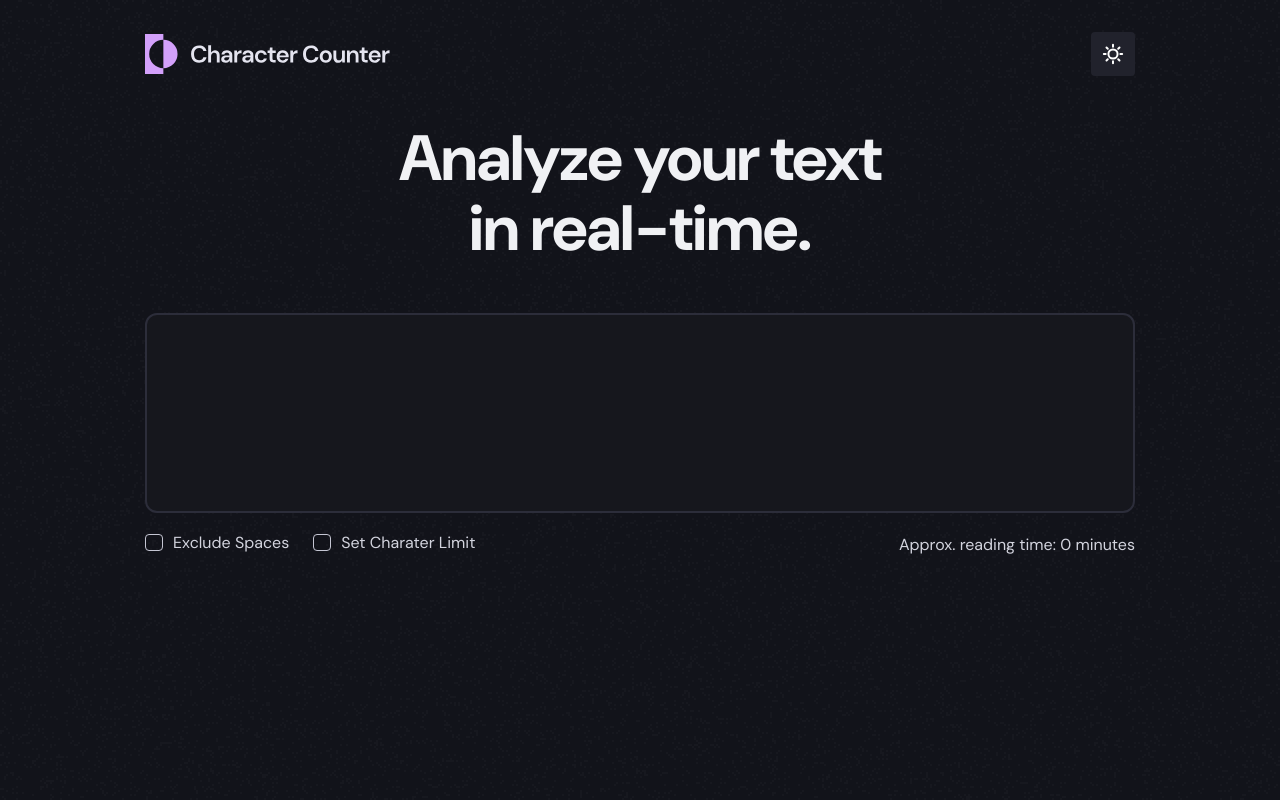
Test: Theme toggle › should switch to light theme and show moon icon on the button when the theme toggle is clicked
The width and height of the screenshot is (1280, 800).
Click the button with test id "theme-toggle" at (1113, 54), box [1091,32,1135,76]
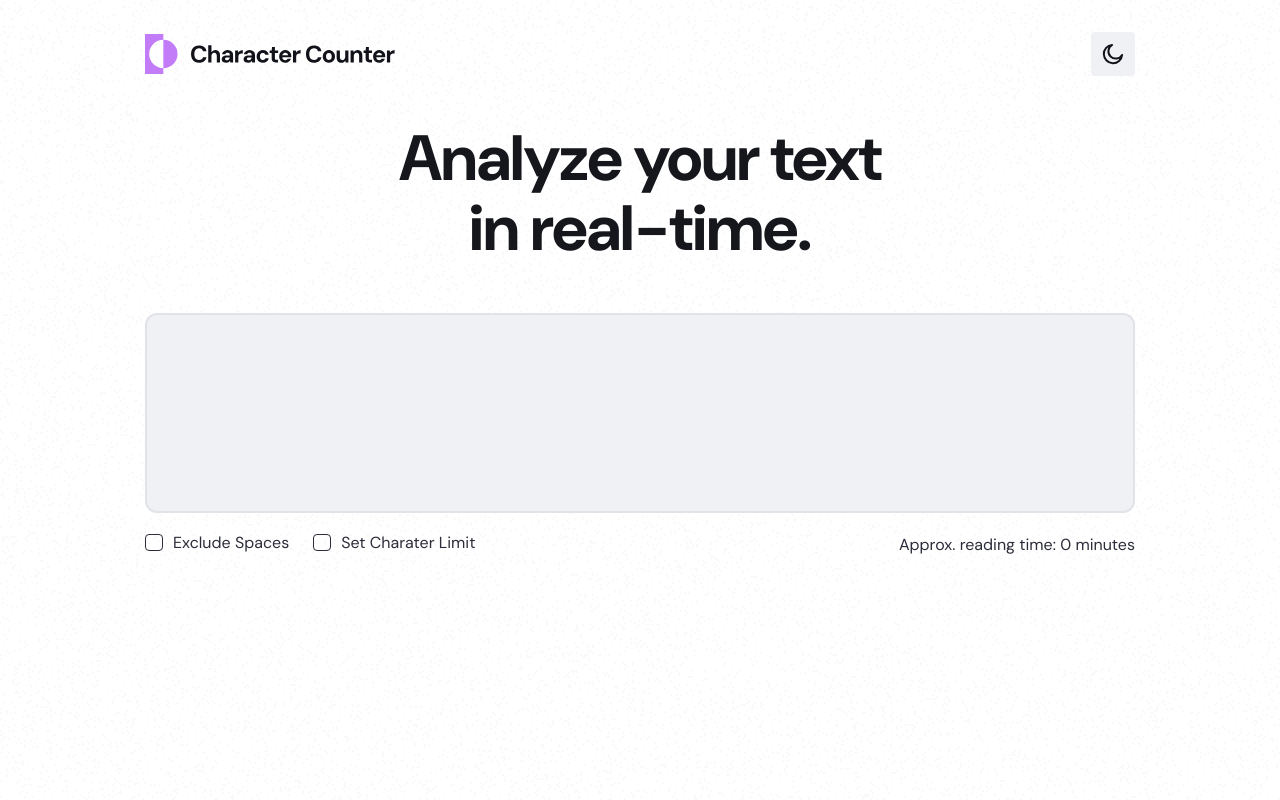
Check: the icon with test id "light-logo" is shown, box [145,34,396,74]
Check: the icon with test id "dark-mode-icon" is shown, box [1102,43,1124,65]
